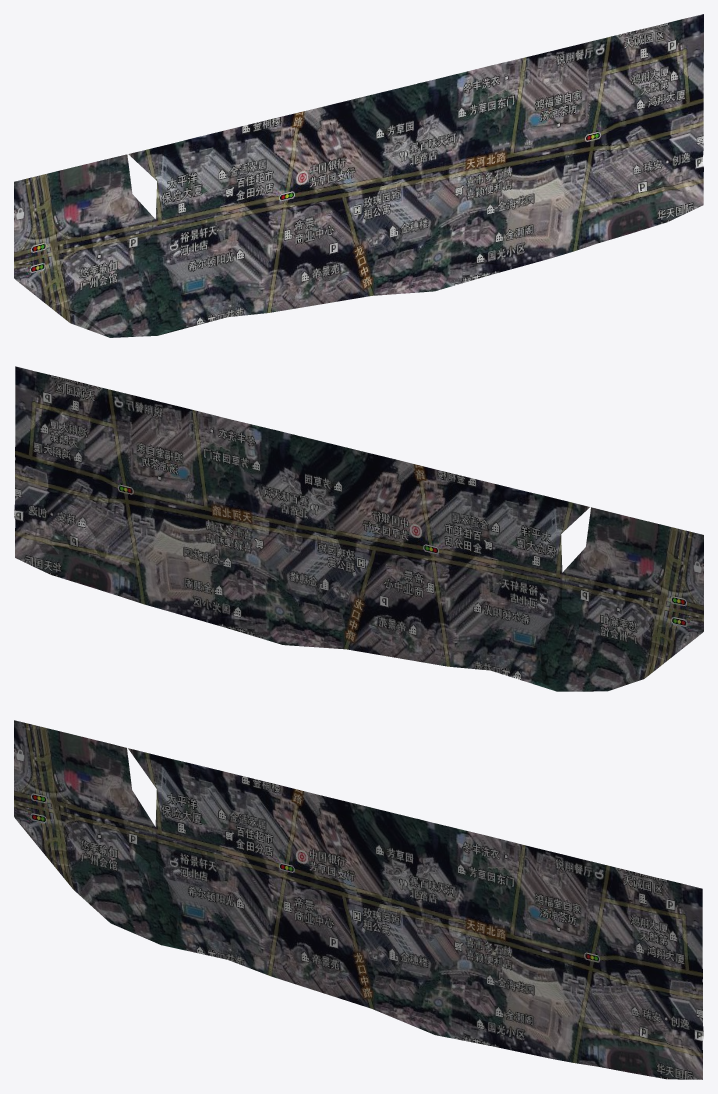
3 views of the same model, one above another, from view 1: azimuth 30°, elevation 25°; view 2: azimuth 150°, elevation 25°; view 3: azimuth 330°, elevation 25° (orthographic).
Parts seen in each view (by area): view 1: 0_1_2_0_3; view 2: 0_1_2_0_3; view 3: 0_1_2_0_3.
Boxes of the visible parts, x1,y1,x2,y2 form: 0_1_2_0_3: [14, 14, 703, 337]; 0_1_2_0_3: [14, 366, 703, 691]; 0_1_2_0_3: [14, 720, 703, 1079].
Size of the model in its own units: 972 by 287 by 6.6.
1 material, 1 textured.
